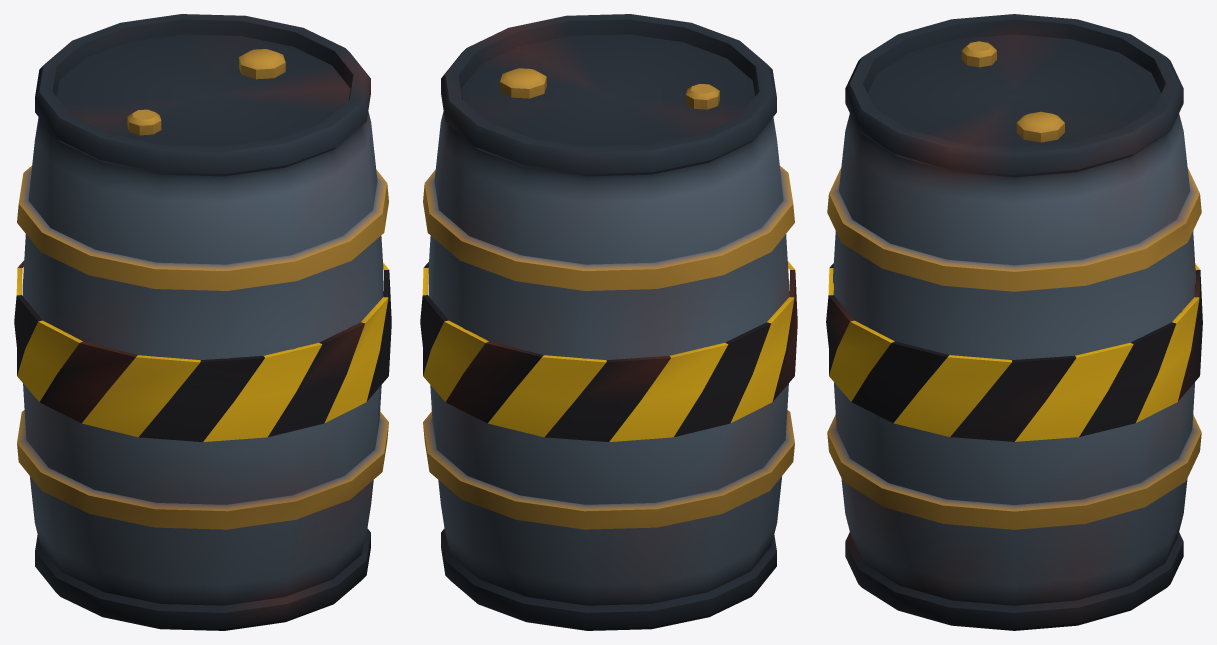
File: barrel_metal.glb
3 renders of one model, left to right at view 1: azimuth 30°, elevation 25°; view 2: azimuth 150°, elevation 25°; view 3: azimuth 270°, elevation 25°, orthographic.
Visible parts, largest first — view 1: barrel_metal; view 2: barrel_metal; view 3: barrel_metal.
Boxes of the visible parts, left/top/right/bottom form: barrel_metal: left=14, top=14, right=391, bottom=630; barrel_metal: left=420, top=14, right=797, bottom=630; barrel_metal: left=826, top=14, right=1202, bottom=630.
Size of the model in its own units: 0.858 by 1.2 by 0.858.
